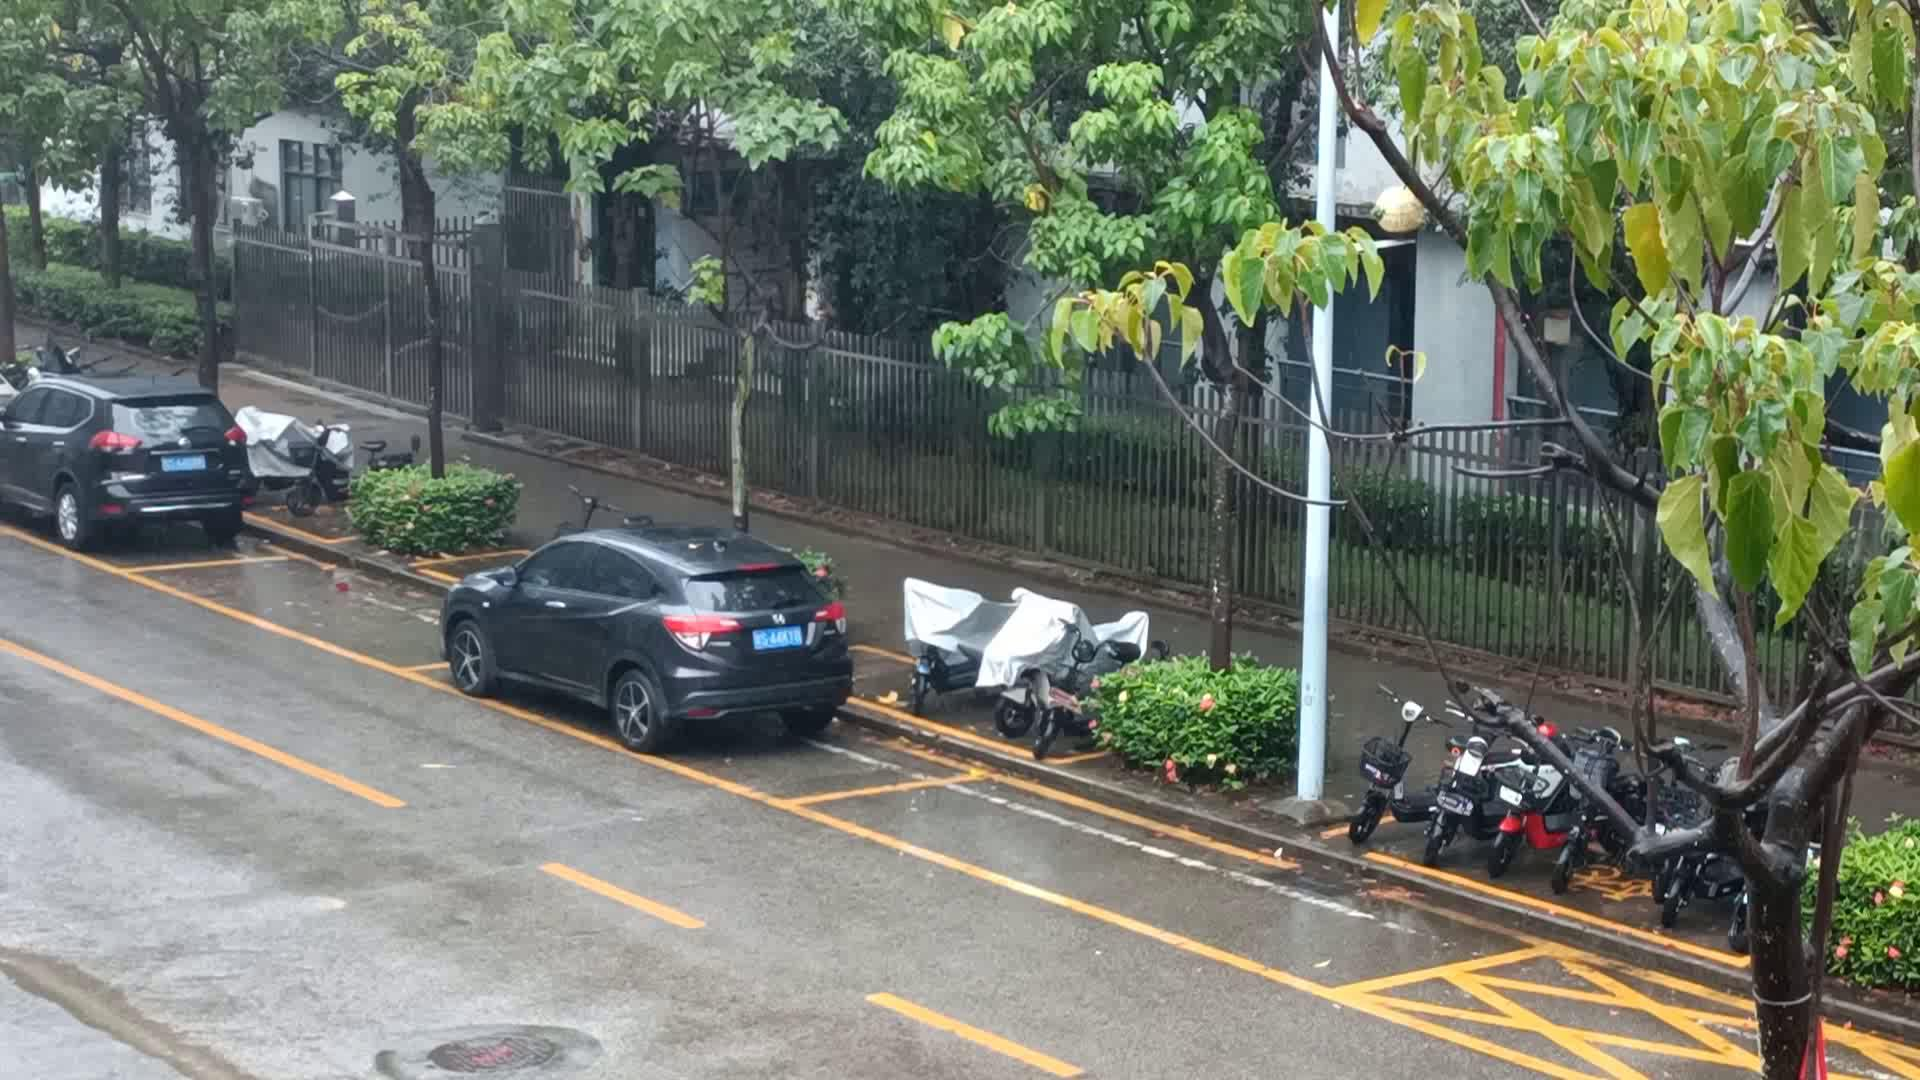space-empty: (777, 765, 1568, 989), (112, 549, 483, 676)
space-occupied: (398, 626, 994, 806)
